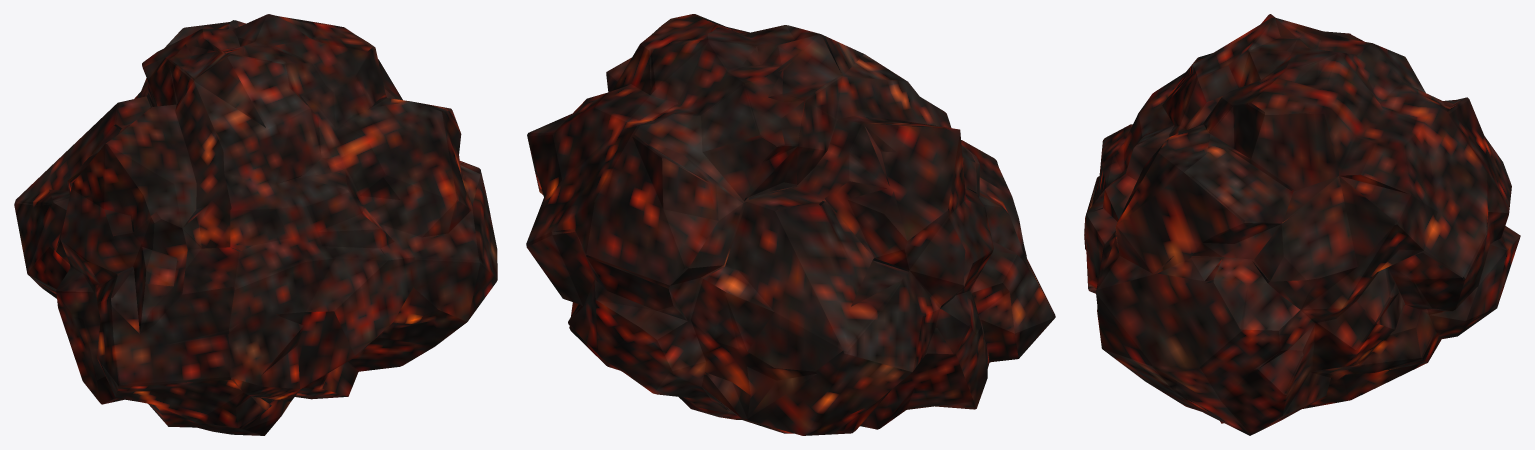
File: meteor_red_02.glb
3 views of the same model, side by side, from view 1: azimuth 30°, elevation 25°; view 2: azimuth 150°, elevation 25°; view 3: azimuth 270°, elevation 25° (orthographic). The views are drawn at different scales.
Parts seen in each view (by area): view 1: Mesh1.0; view 2: Mesh1.0; view 3: Mesh1.0.
Boxes of the visible parts, x1,y1,x2,y2 form: Mesh1.0: [14, 14, 497, 435]; Mesh1.0: [526, 14, 1055, 435]; Mesh1.0: [1084, 14, 1520, 435].
Size of the model in its own units: 1.91 by 1.6 by 1.73.
Materials: 1 (1 with a texture image).
